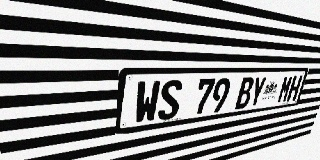7: (192, 78, 216, 116)
9: (210, 78, 232, 113)
B: (235, 77, 255, 109)
H: (286, 75, 303, 102)
M: (276, 76, 294, 103)
S: (157, 79, 183, 121)
W: (133, 80, 161, 124)
Y: (248, 76, 267, 108)
